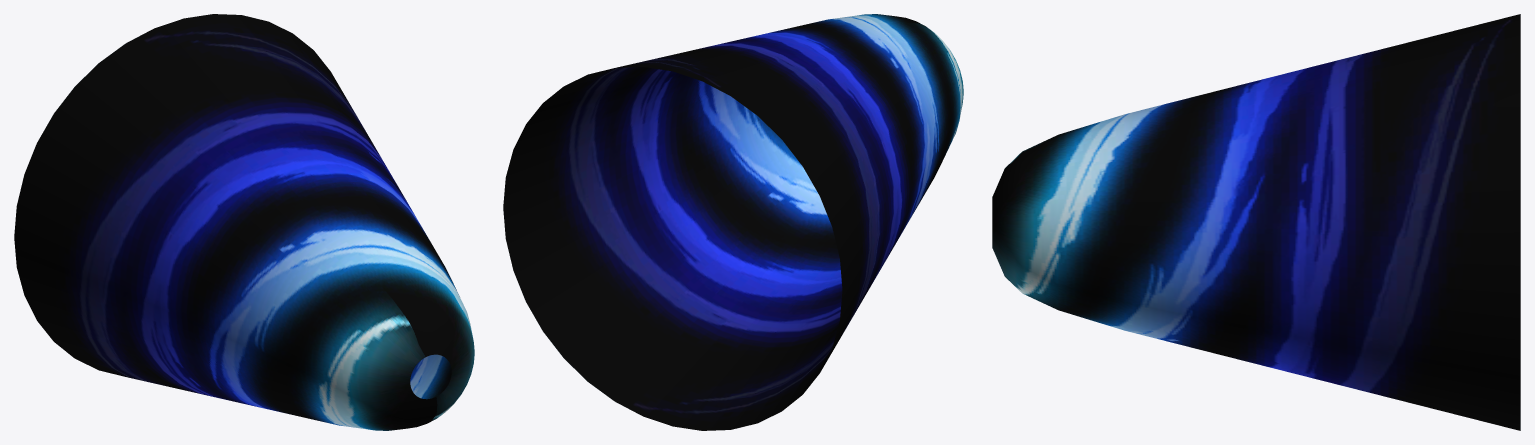
The model's file is eff_mot_sonic_boost2.fbx.
The picture shows the model from 3 angles, left to right: view 1: azimuth 30°, elevation 25°; view 2: azimuth 150°, elevation 25°; view 3: azimuth 270°, elevation 25°; orthographic projection. The views are drawn at different scales.
Visible parts, largest first — view 1: eff_mot_sonic_boost2_Mesh, eff_mot_sonic_boost2_MeshR; view 2: eff_mot_sonic_boost2_Mesh, eff_mot_sonic_boost2_MeshR; view 3: eff_mot_sonic_boost2_Mesh, eff_mot_sonic_boost2_MeshR.
Boxes of the visible parts, box(x1,y1,x2,y2) form: eff_mot_sonic_boost2_Mesh: box(14, 14, 474, 430); eff_mot_sonic_boost2_MeshR: box(15, 14, 474, 430); eff_mot_sonic_boost2_Mesh: box(503, 14, 963, 430); eff_mot_sonic_boost2_MeshR: box(504, 14, 963, 430); eff_mot_sonic_boost2_Mesh: box(992, 14, 1520, 430); eff_mot_sonic_boost2_MeshR: box(992, 15, 1520, 429).
Size of the model in its own units: 2.38 by 2.38 by 3.
Materials: 1 (1 with a texture image).
